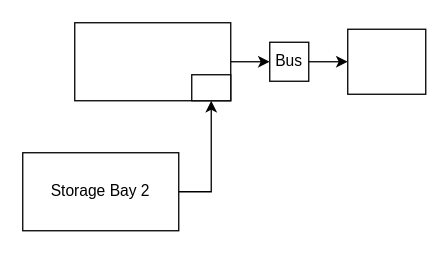
Image size: 448x253. Some labels were removed from this diagram. The box of each missing label's shape, as (x1, y1, x2, y2) in pixels:
Server: (346, 28, 426, 94)
Storage Bay 1: (73, 21, 231, 101)
